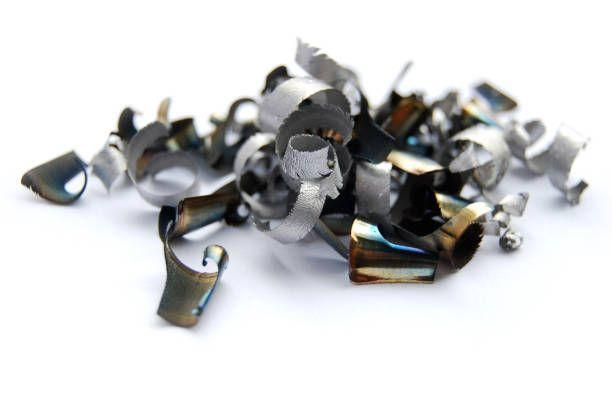metal: (19, 37, 594, 327)
